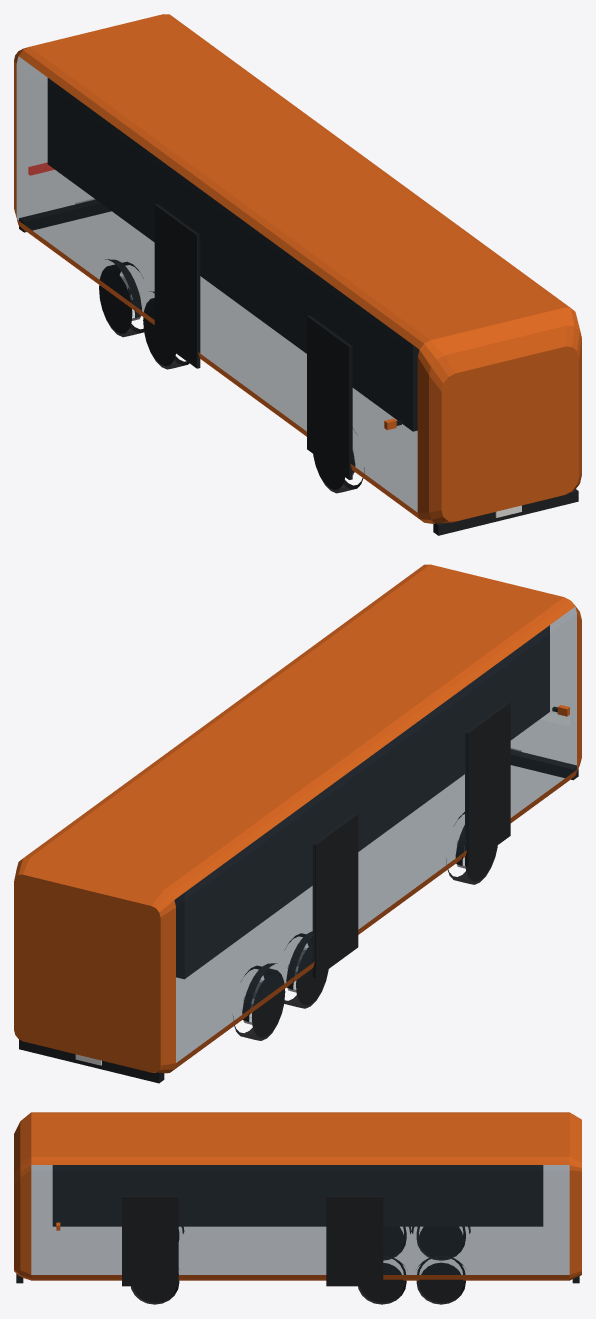
File: bus.glb
3 views of the same model, one above another, from view 1: azimuth 30°, elevation 25°; view 2: azimuth 150°, elevation 25°; view 3: azimuth 270°, elevation 25° (orthographic). The views are drawn at different scales.
Parts seen in each view (by area): view 1: body, wheel_R1L, wheel_R2L, wheel_FL; view 2: body, wheel_R1L, wheel_R2L, wheel_FL; view 3: body, wheel_R1R, wheel_R1L, wheel_R2R, wheel_FR, wheel_R2L.
Part boxes in pixels (bbox=[...]): body: bbox=[14, 14, 581, 535]; wheel_R1L: bbox=[99, 262, 143, 337]; wheel_R2L: bbox=[143, 298, 189, 369]; wheel_FL: bbox=[313, 432, 364, 493]; body: bbox=[14, 564, 581, 1083]; wheel_R1L: bbox=[233, 965, 285, 1040]; wheel_R2L: bbox=[284, 933, 328, 1008]; wheel_FL: bbox=[446, 812, 497, 884]; body: bbox=[14, 1112, 581, 1286]; wheel_R1R: bbox=[416, 1255, 465, 1304]; wheel_R1L: bbox=[416, 1226, 465, 1260]; wheel_R2R: bbox=[358, 1255, 406, 1304]; wheel_FR: bbox=[131, 1274, 179, 1304]; wheel_R2L: bbox=[383, 1226, 406, 1260].
Size of the model in its own units: 2.87 by 3.24 by 11.5.
